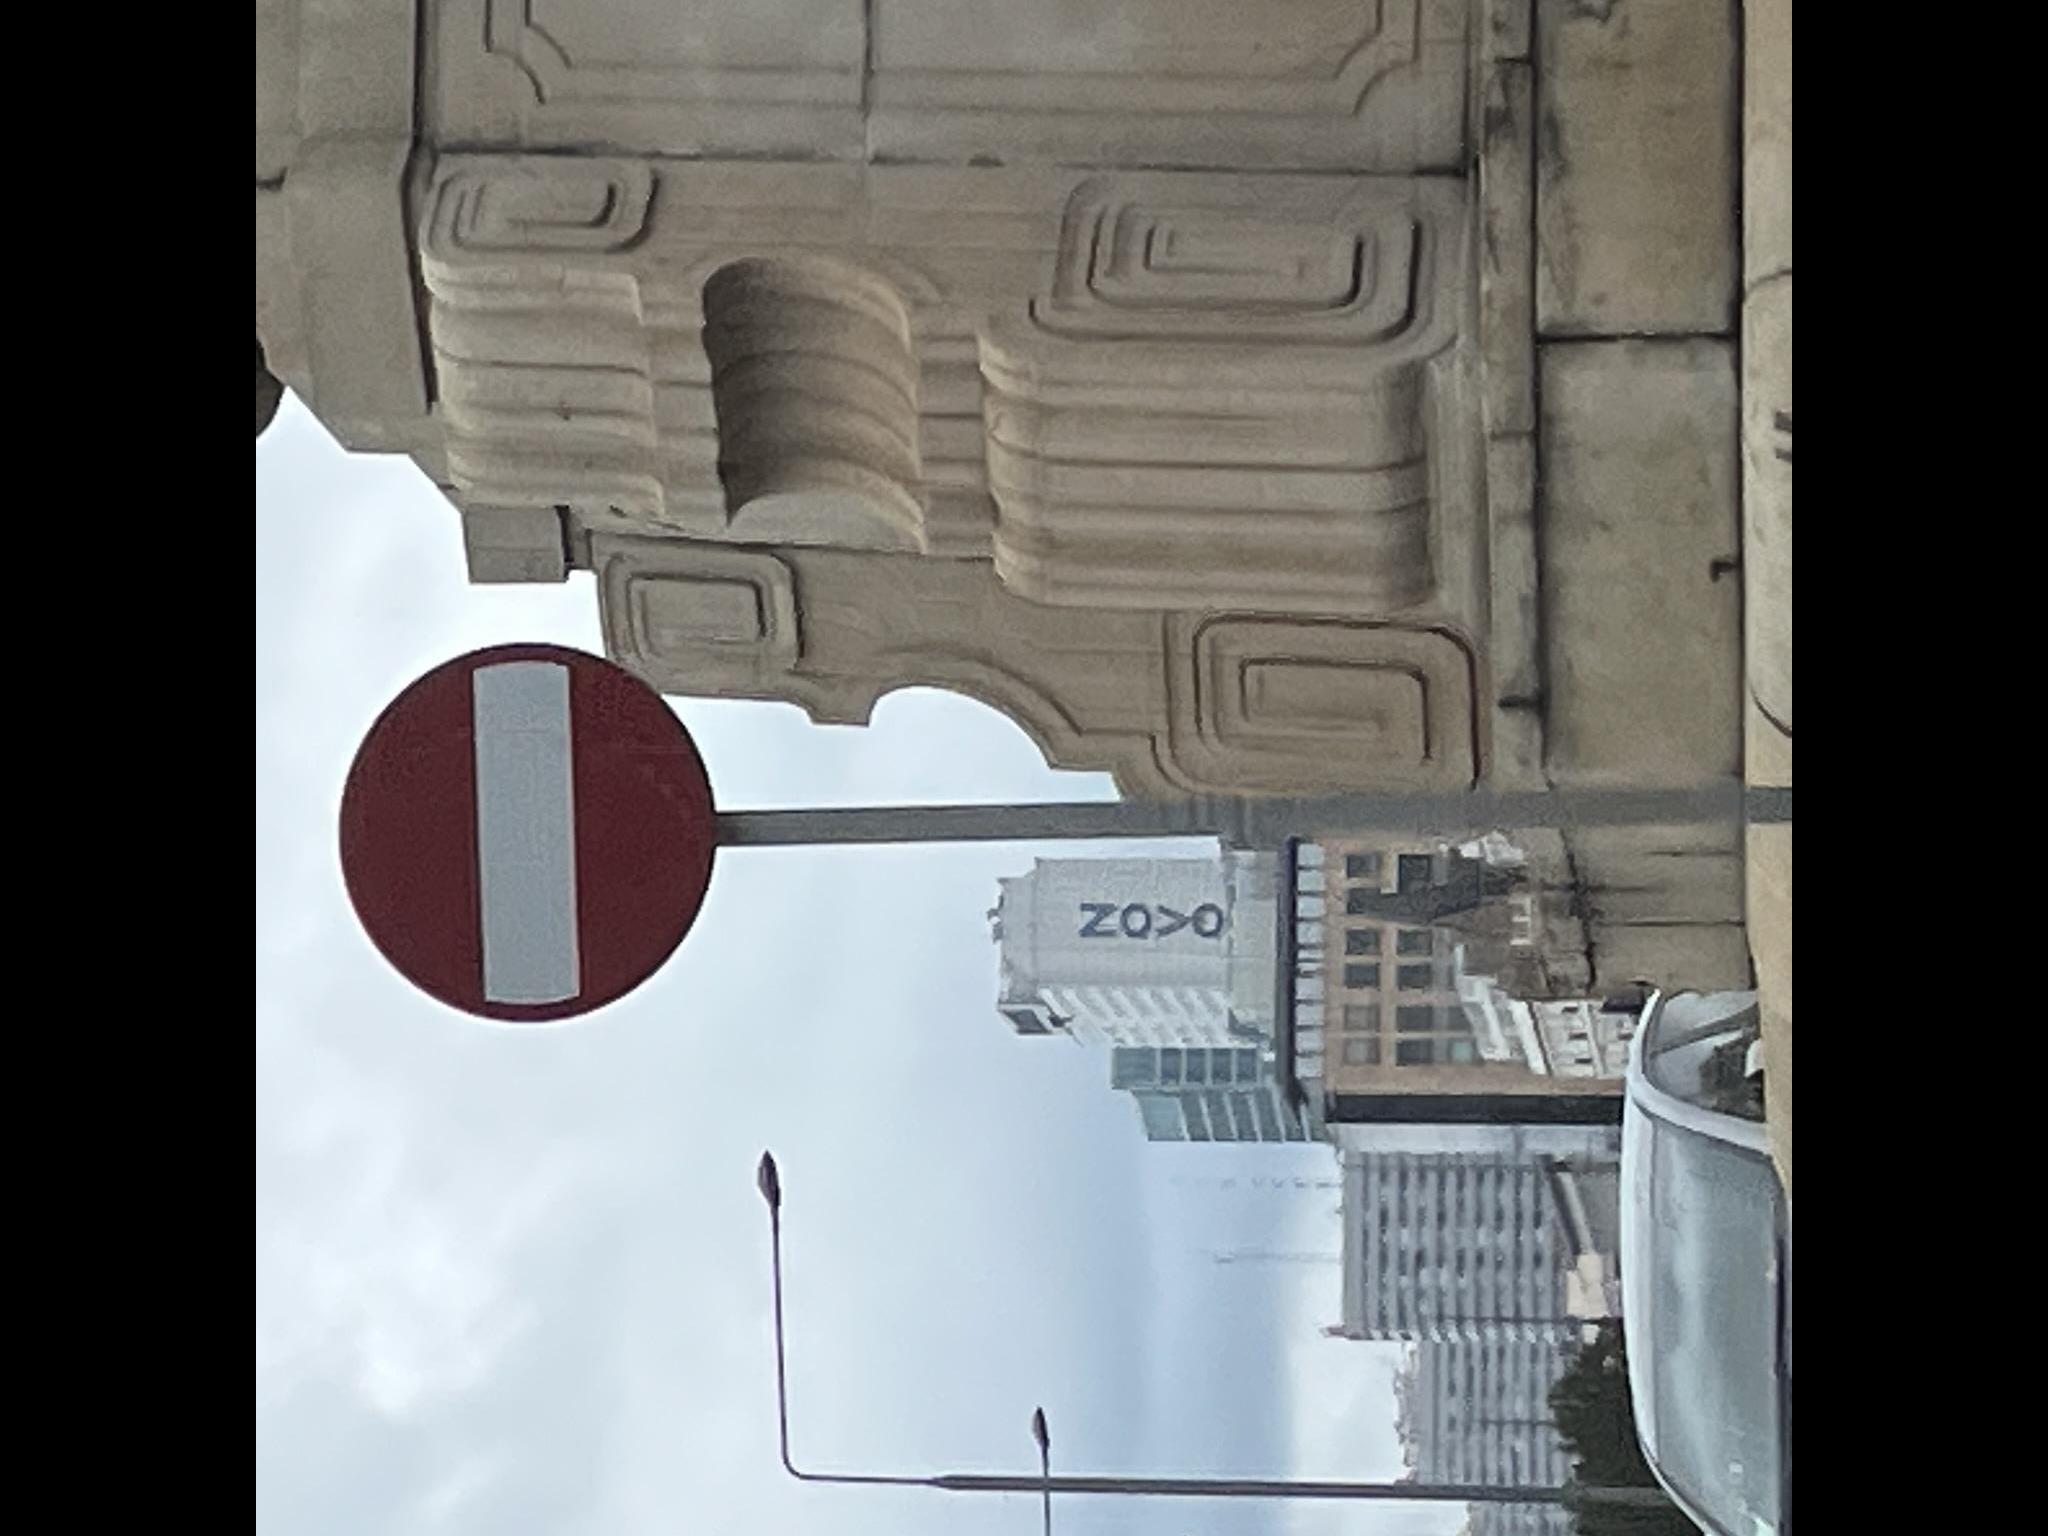prohibitory: (334, 641, 722, 1025)
